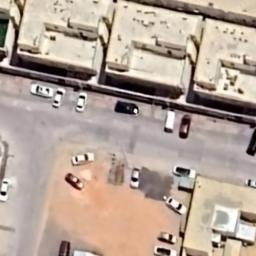sedan: (62, 171, 91, 191), (29, 78, 53, 98), (68, 150, 96, 167), (50, 84, 68, 110), (72, 88, 90, 114), (0, 178, 14, 204)
truck: (160, 108, 178, 137)
unknown: (161, 194, 193, 220), (170, 159, 204, 177), (112, 98, 140, 117), (128, 160, 143, 190), (150, 244, 184, 256), (178, 110, 190, 142), (153, 230, 179, 244), (243, 128, 256, 156), (243, 176, 256, 191)
